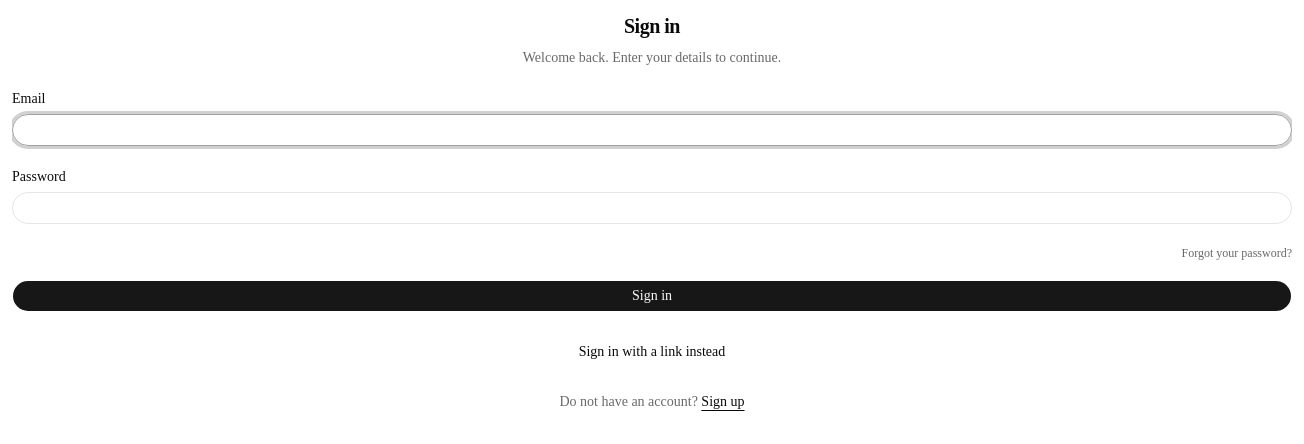
Test: LoginForm — validation › requires a password
The width and height of the screenshot is (1304, 444).
Type "alex@example.com" into the field labelled "Email".
click(652, 130); type("alex@example.com")  # box 12,114 -> 1292,146
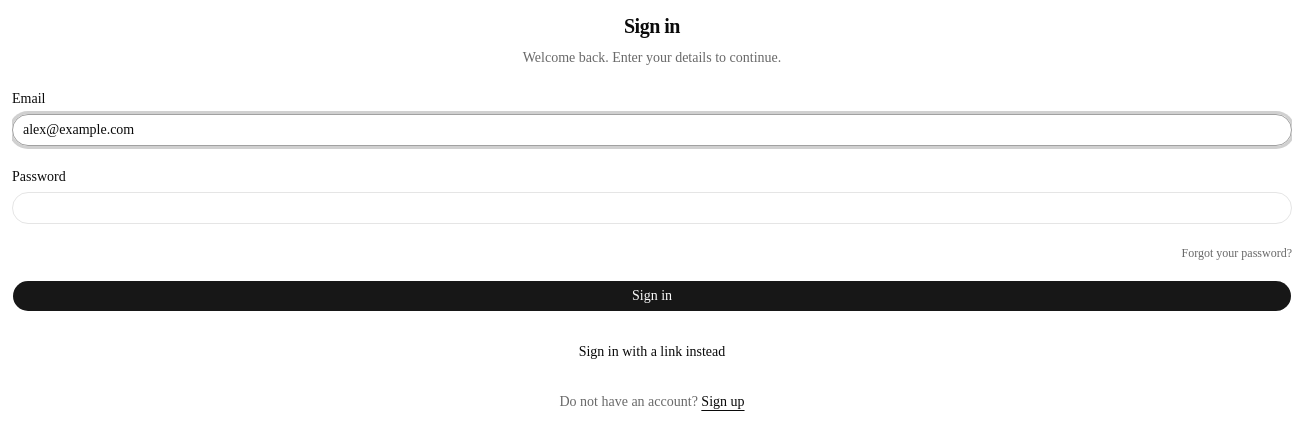
Click the button "Sign in".
click(652, 296)  # box 12,280 -> 1292,312
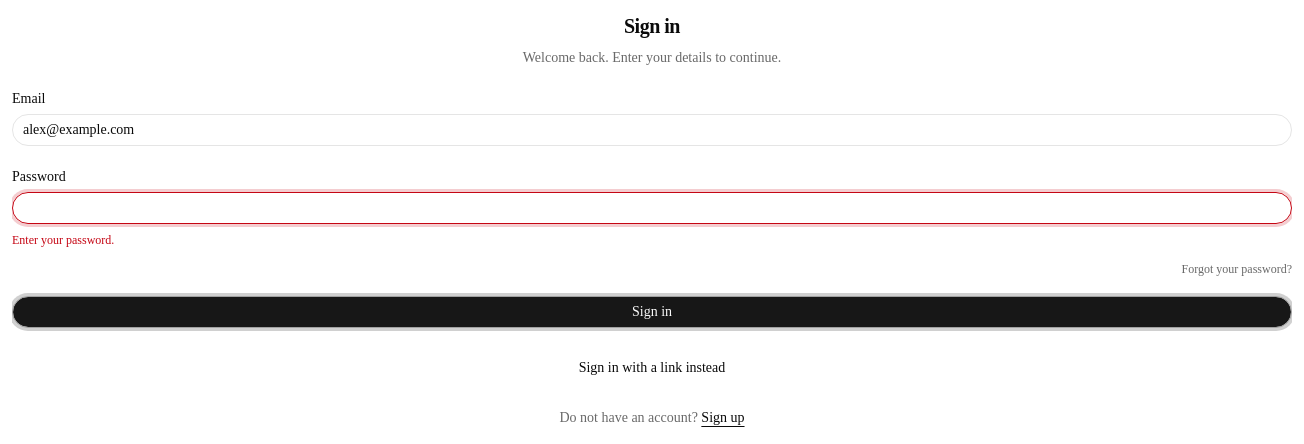
Expected: the text "Enter your password." is shown, 12,233 -> 114,247
